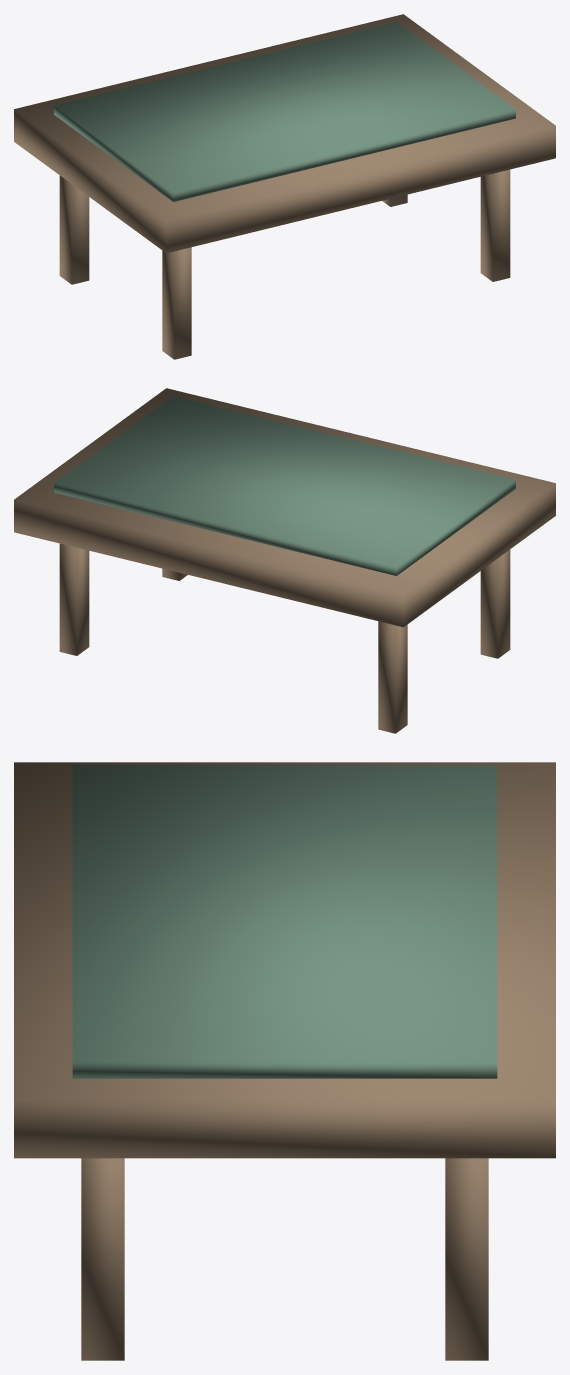
The model's file is pool_table__deep.glb.
3 renders of one model, top to bottom at view 1: azimuth 30°, elevation 25°; view 2: azimuth 150°, elevation 25°; view 3: azimuth 270°, elevation 25°, orthographic. The views are drawn at different scales.
Parts seen in each view (by area): view 1: world; view 2: world; view 3: world.
Boxes of the visible parts, x1,y1,x2,y2 form: world: (14,14,555,359); world: (14,388,555,733); world: (14,762,555,1360).
Bounding box in the file's own units: 2.25 × 0.935 × 1.52.
